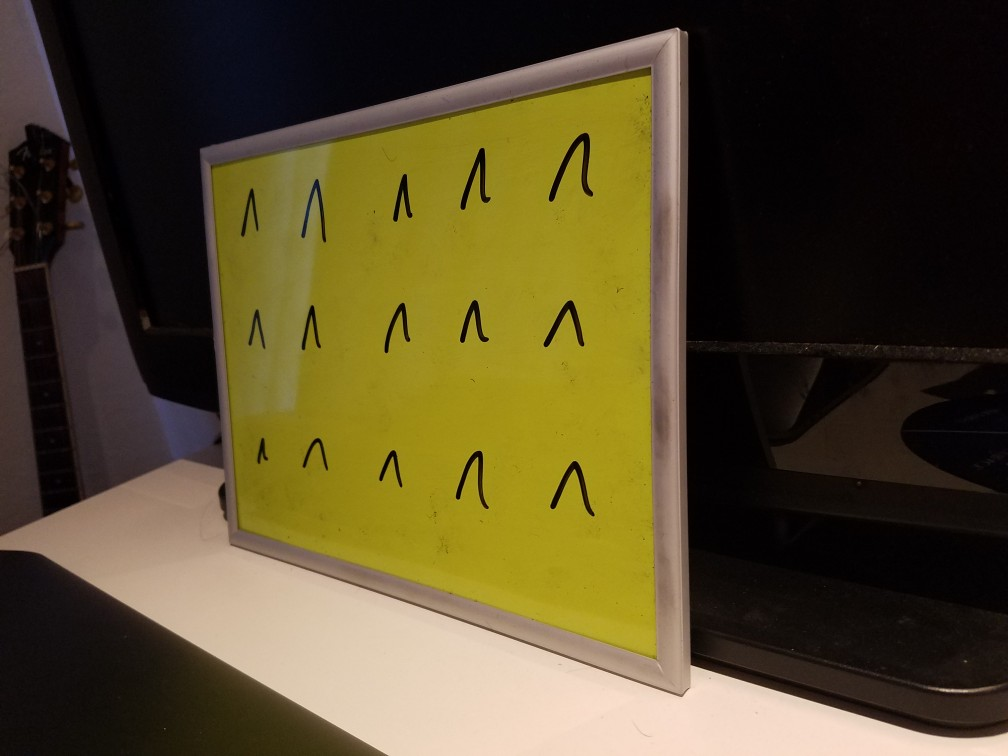^: (529, 440, 627, 532), (436, 432, 511, 528), (540, 128, 613, 211), (528, 282, 598, 360), (363, 292, 430, 368), (282, 174, 345, 246), (451, 289, 509, 360), (358, 436, 418, 498), (457, 140, 503, 220), (377, 162, 416, 232), (294, 427, 340, 485), (295, 297, 339, 357), (236, 303, 281, 359), (233, 186, 269, 245), (250, 426, 275, 473)
